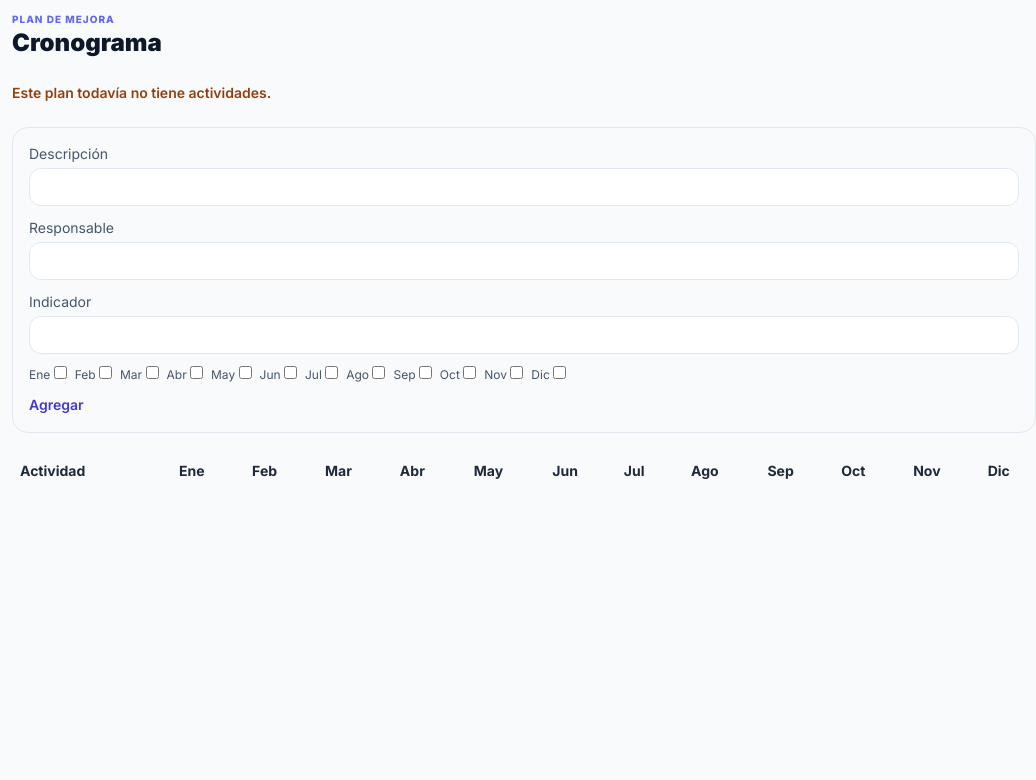
Scenario: PaginaPlanMejoraComponent › should agregar una actividad y pintar el plan devuelto
Click the button "Agregar" at (56, 405), box [29,395,84,415]
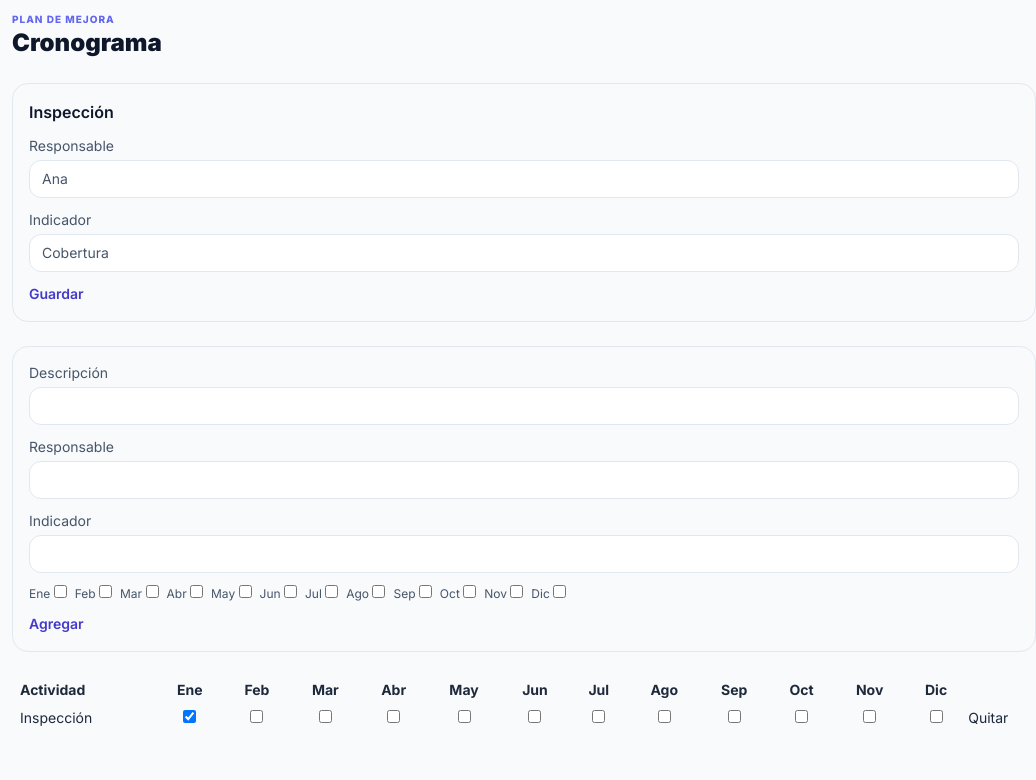
Expected: the text "Inspección" is shown, [29,102,114,122]
